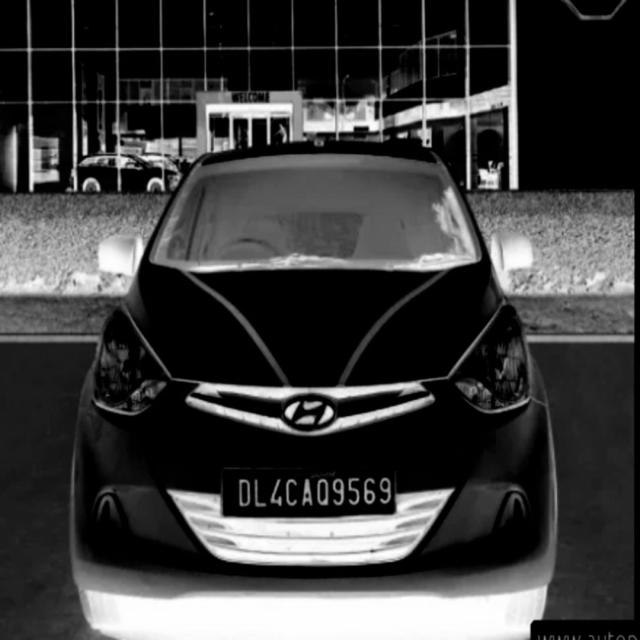4: (270, 479, 285, 507)
5: (348, 476, 360, 506)
6: (364, 477, 375, 505)
9: (332, 478, 346, 506), (379, 476, 392, 504)
A: (302, 476, 314, 506)
C: (285, 476, 299, 506)
D: (238, 478, 251, 509)
IND: (225, 473, 238, 508)
Indian_registered: (222, 469, 395, 517)
L: (253, 478, 267, 509)
Q: (316, 478, 330, 506)
